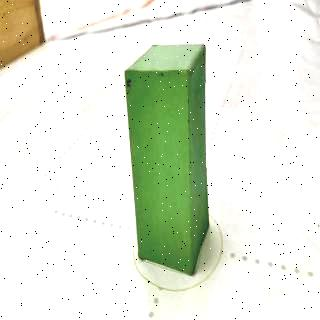greenbox: (123, 43, 209, 277)
